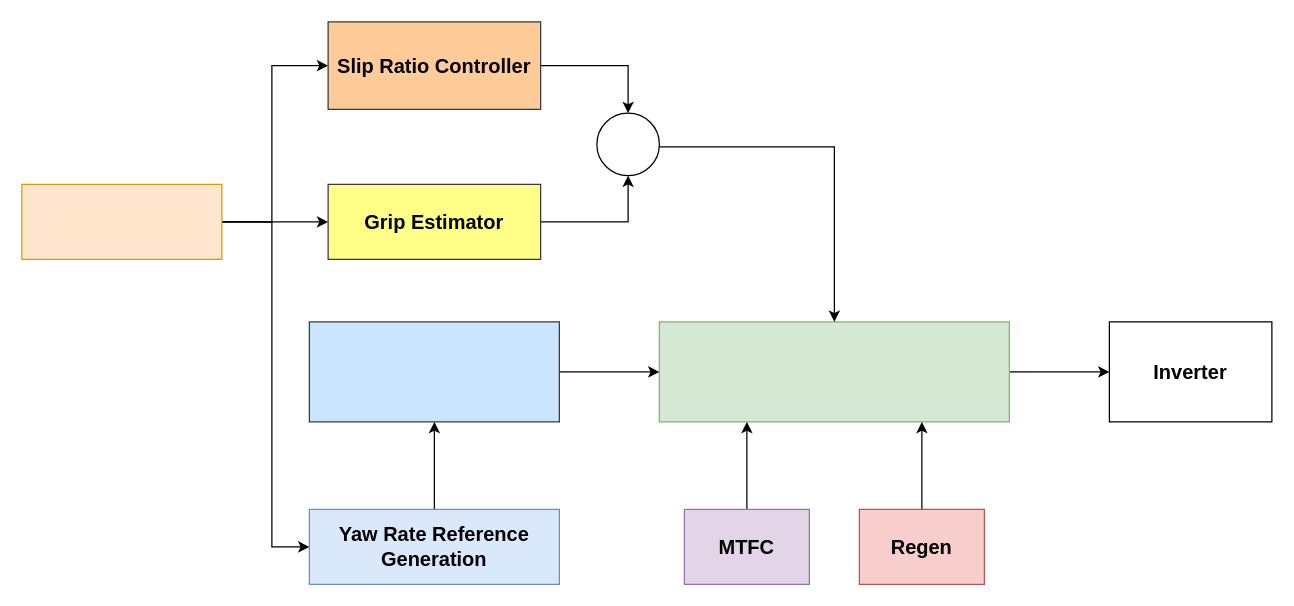
Some shapes in this 1294 by 606 pixel diagram are drawn without their labels. Here are the shapes that lost their labels. From the top down, the centre of each, then its label:
point (121, 221): Vehicle dynamics
point (433, 371): Torque Vectoring Controller
point (833, 371): Torque Allocator
